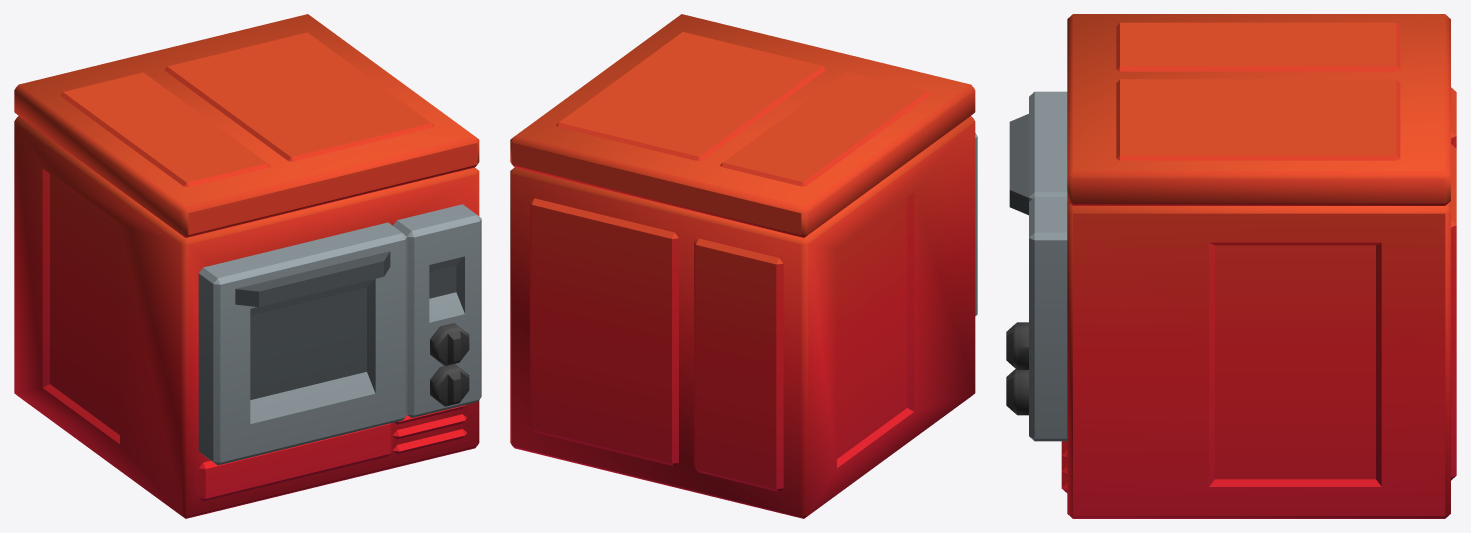
Rendered from oven.gltf.
3 renders of one model, left to right at view 1: azimuth 30°, elevation 25°; view 2: azimuth 150°, elevation 25°; view 3: azimuth 270°, elevation 25°, orthographic. The views are drawn at different scales.
Visible parts, largest first — view 1: oven, oven_door; view 2: oven, oven_door; view 3: oven, oven_door.
Part boxes in pixels (x1=…): oven: x1=14, y1=14, x2=481, y2=518; oven_door: x1=198, y1=222, x2=407, y2=465; oven: x1=510, y1=14, x2=975, y2=518; oven_door: x1=975, y1=133, x2=977, y2=315; oven: x1=1006, y1=14, x2=1456, y2=518; oven_door: x1=1009, y1=91, x2=1067, y2=215.
Size of the model in its own units: 2 by 2.02 by 2.35.
1 material, 1 textured.
